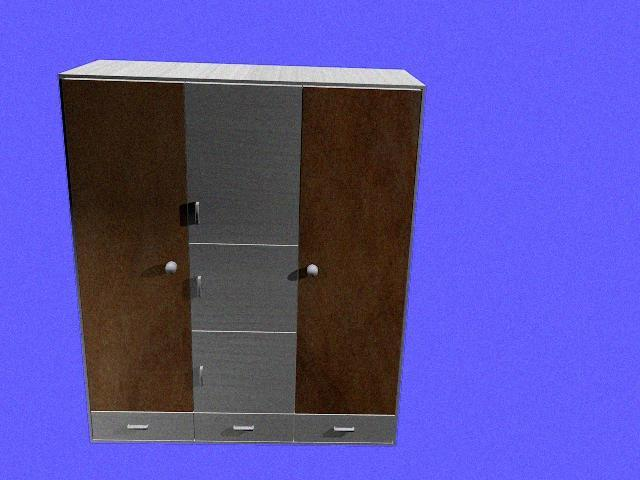cabinet_door: (76, 81, 190, 412), (298, 88, 408, 414), (188, 85, 300, 245), (190, 245, 298, 332), (194, 331, 296, 414), (294, 414, 394, 442), (92, 412, 195, 439), (195, 414, 294, 440)
handle: (159, 256, 184, 282), (301, 258, 325, 285), (191, 270, 209, 304), (226, 421, 259, 438), (194, 360, 209, 393), (190, 196, 203, 231), (326, 423, 359, 436), (122, 421, 154, 434)
